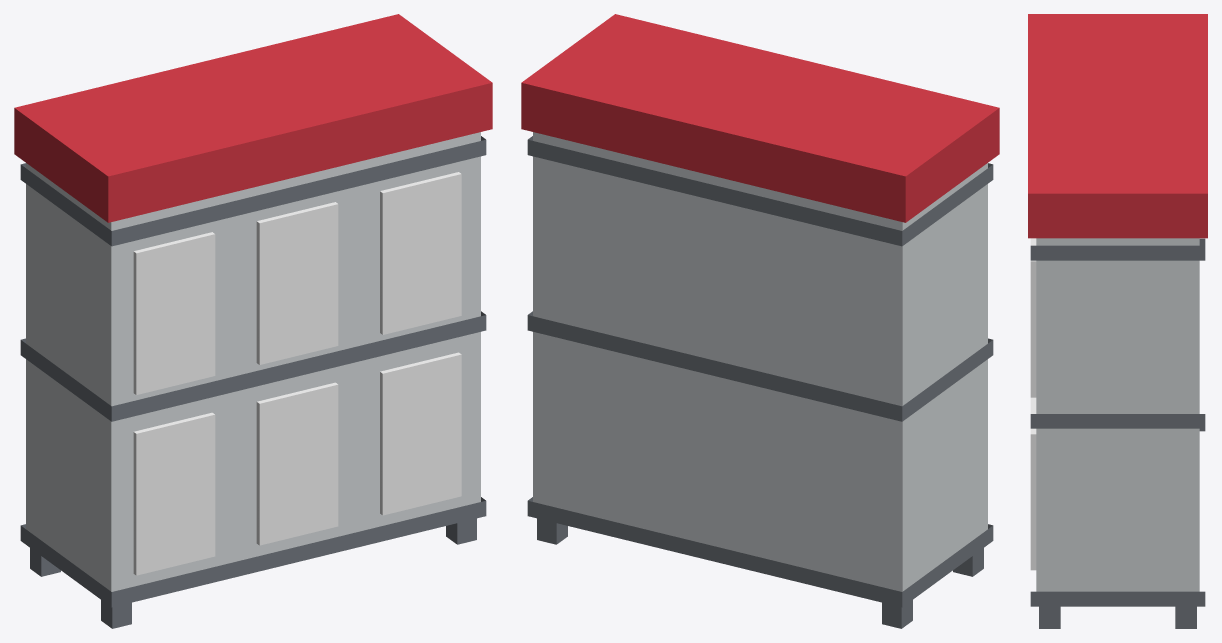
The model's file is site_clutter1.fbx.
3 renders of one model, left to right at view 1: azimuth 30°, elevation 25°; view 2: azimuth 150°, elevation 25°; view 3: azimuth 270°, elevation 25°, orthographic. The views are drawn at different scales.
Visible parts, largest first — view 1: a1019/0/site_clutter1; view 2: a1019/0/site_clutter1; view 3: a1019/0/site_clutter1.
Boxes of the visible parts, bbox=[...] form: a1019/0/site_clutter1: bbox=[14, 14, 492, 628]; a1019/0/site_clutter1: bbox=[521, 14, 999, 628]; a1019/0/site_clutter1: bbox=[1028, 14, 1207, 628].
Bounding box in the file's own units: 1.56 × 1.78 × 0.66.
